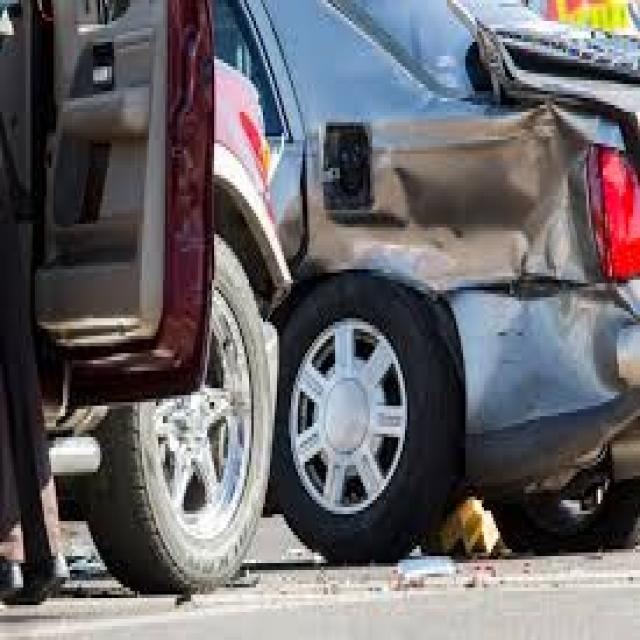car-minor-accident: (4, 0, 640, 594)
